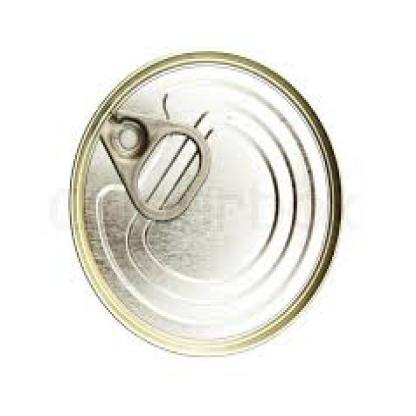Compsot: (68, 47, 339, 357)
